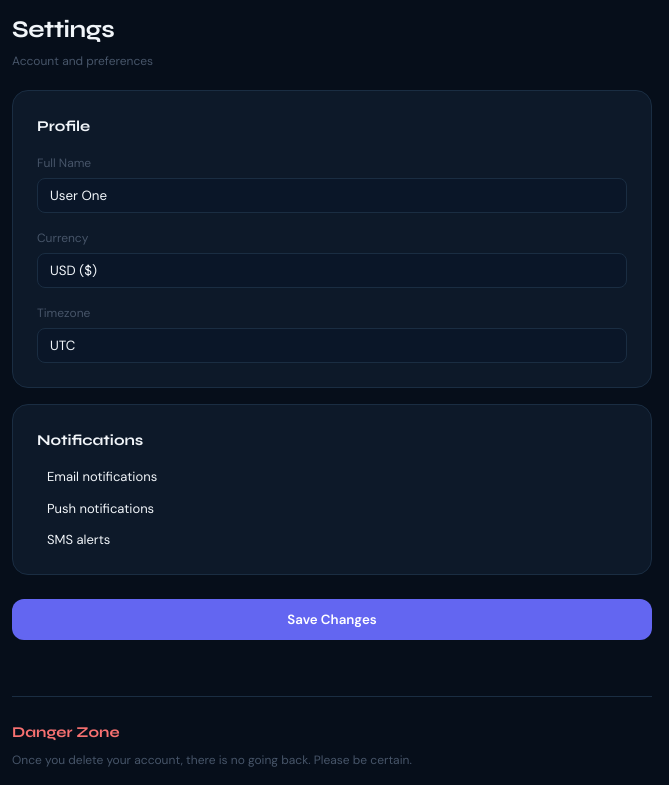
Test: SettingsPage Component › shows the response-shaped error message when profileApi.update rejects with one
The image size is (669, 785).
Expected: the field showing "User One" is shown, [37,178,627,212]
Click the button "Save Changes" at [332, 619], box [12,598,652,640]
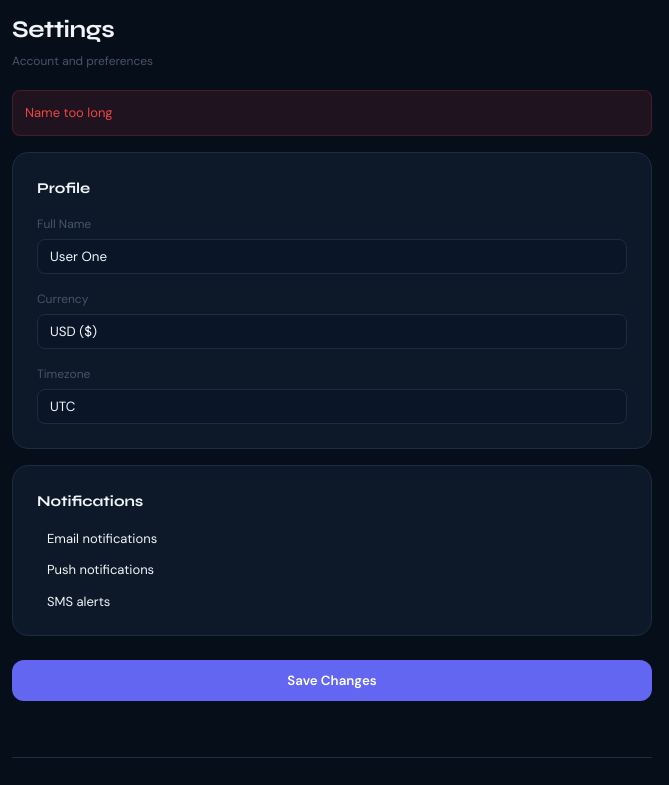
Now the text "Name too long" is shown, box [12,90,652,136]
